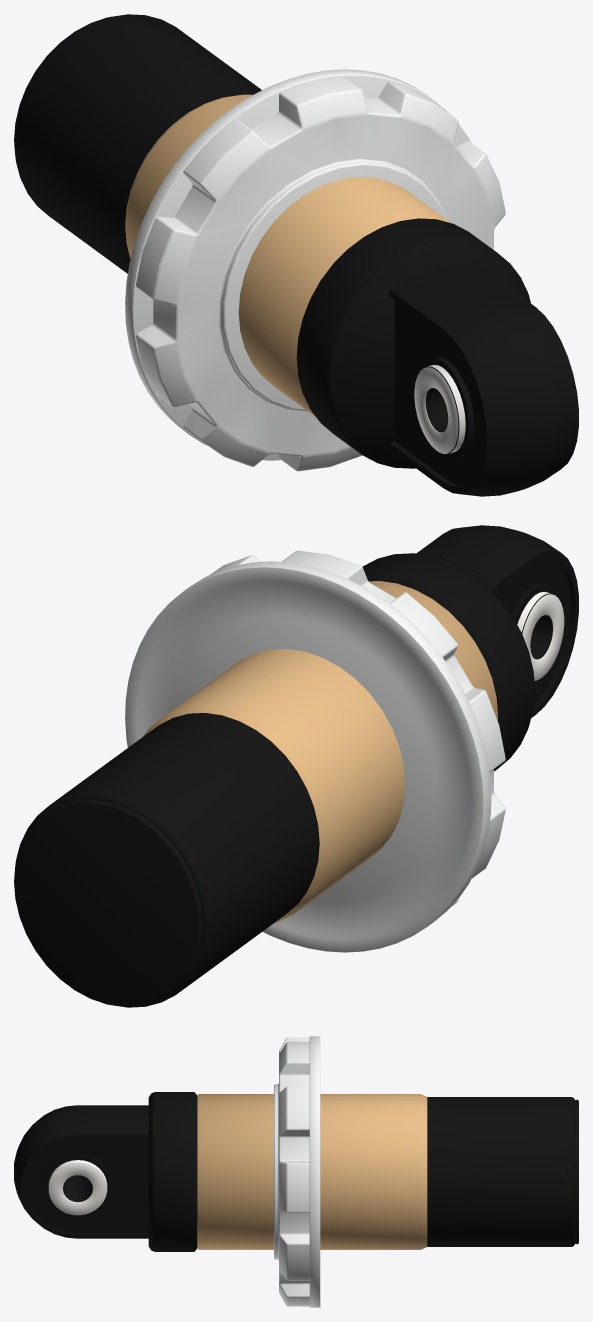
Rendered from coilover_body.gltf.
The picture shows the model from 3 angles, top to bottom: view 1: azimuth 30°, elevation 25°; view 2: azimuth 150°, elevation 25°; view 3: azimuth 270°, elevation 25°; orthographic projection. The views are drawn at different scales.
Visible parts, largest first — view 1: coilover_body; view 2: coilover_body; view 3: coilover_body.
Part boxes in pixels (x1,y1,x2,y2): coilover_body: (14, 14, 578, 496); coilover_body: (14, 525, 578, 1007); coilover_body: (14, 1036, 578, 1307).
Bounding box in the file's own units: 0.1195 × 0.1195 × 0.2487.
1 material, 1 textured.
